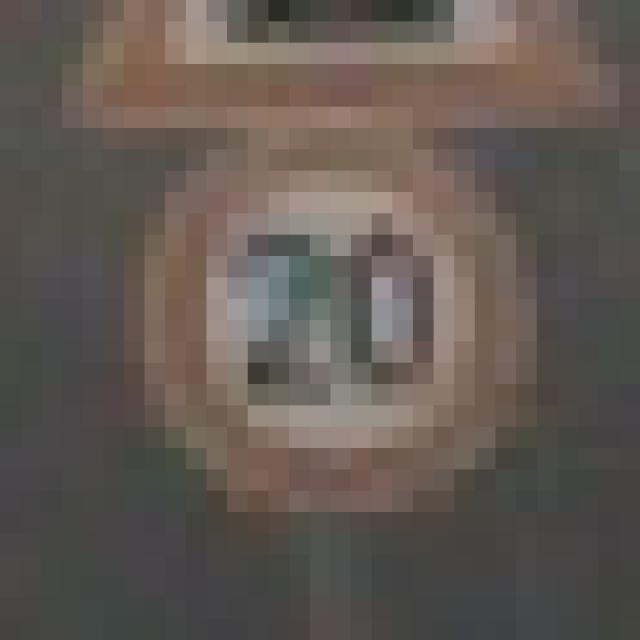Speed Limit -20-: (103, 128, 537, 533)
